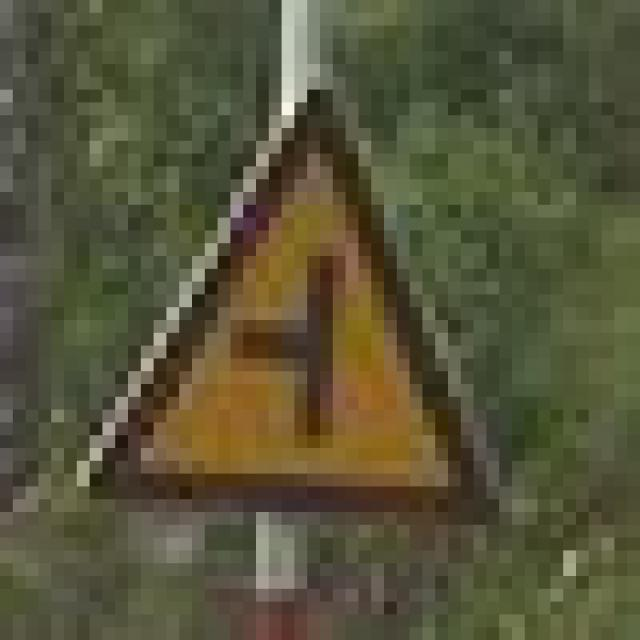side road left: (73, 91, 496, 511)
